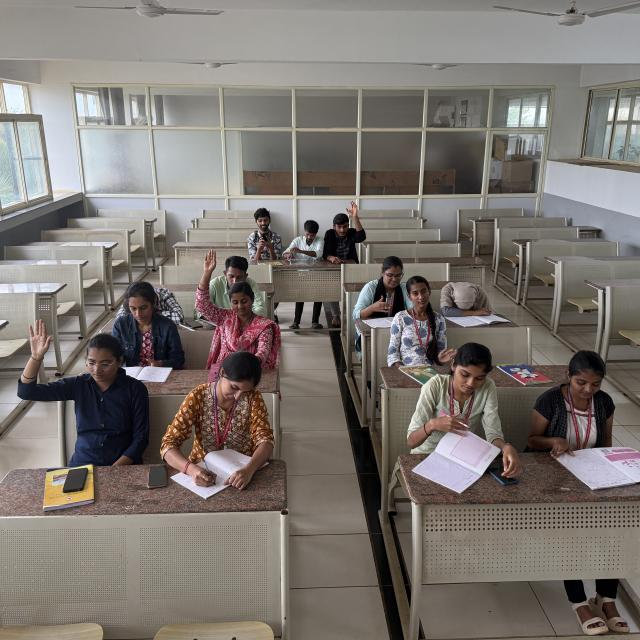Hand Rising: (10, 311, 153, 442), (197, 247, 275, 355), (325, 200, 369, 260)
Reading: (533, 344, 635, 474), (422, 340, 512, 478)
Sleeping: (112, 276, 185, 320), (438, 270, 494, 316)
Using Phone: (244, 206, 283, 260)
Writing: (176, 351, 284, 494), (358, 254, 414, 326), (278, 218, 326, 264)
